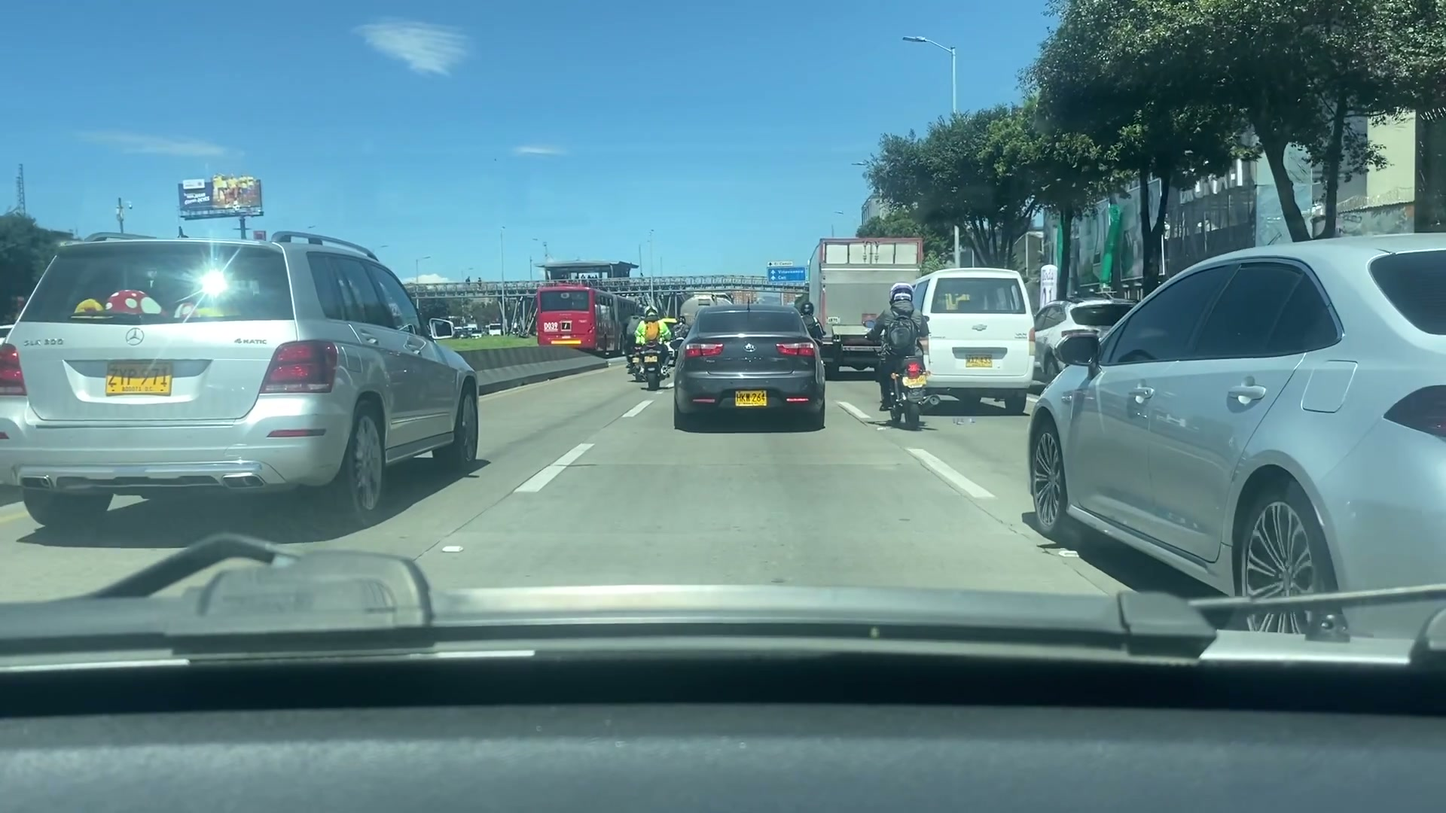bus: (899, 266, 1032, 415), (533, 284, 641, 359)
car: (1027, 229, 1446, 631), (0, 231, 495, 526), (670, 303, 827, 431), (1027, 291, 1142, 379)
motorcycle: (871, 347, 940, 431), (633, 332, 671, 388)
person: (860, 283, 935, 411), (634, 305, 675, 385)
truck: (809, 233, 922, 376)
